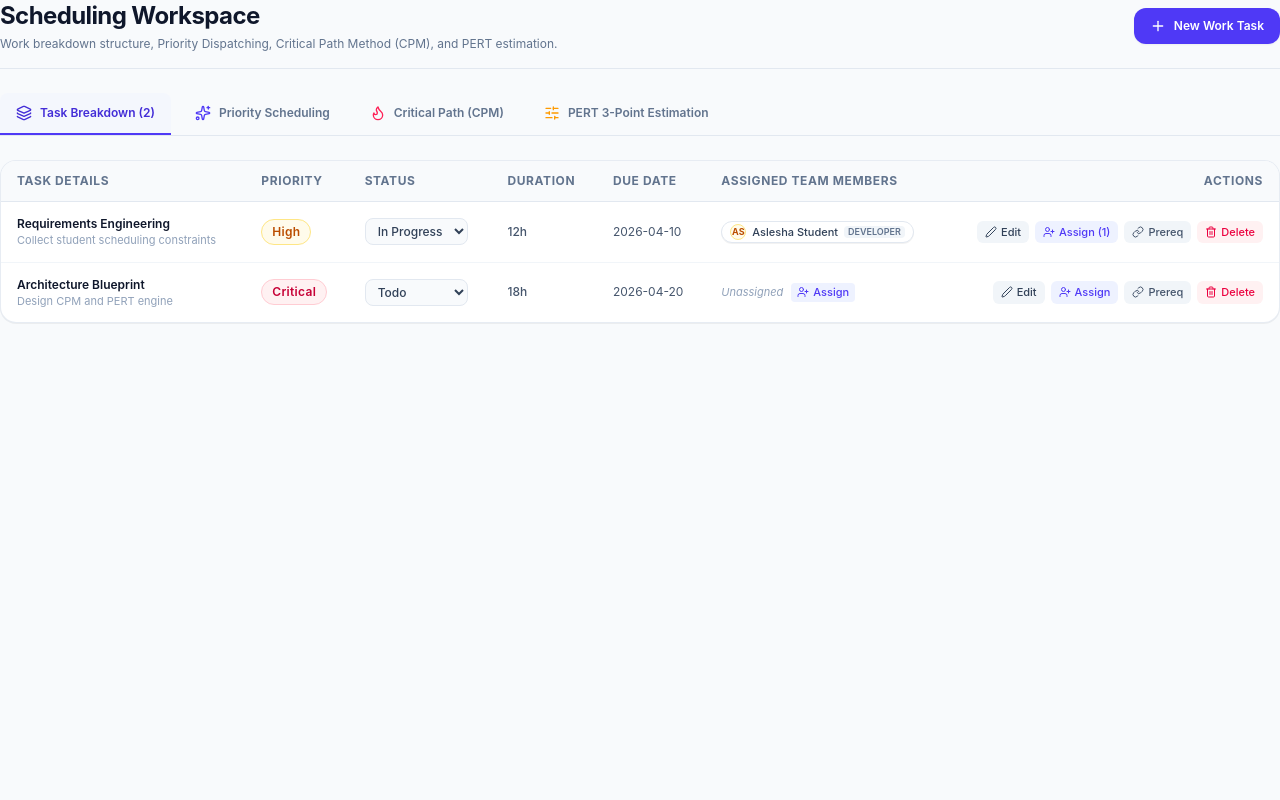
Scheduling Workspace Task Assignment UI › allows unassigning a team member with confirmation prompt and reflects immediately
This screenshot has width=1280, height=800.
Expected: the text "Requirements Engineering" is shown, [17,216,170,231]
// Click assign on task-req-1
Click the button "Assign (1)" at [1077, 232], box [1035,220,1118,243]
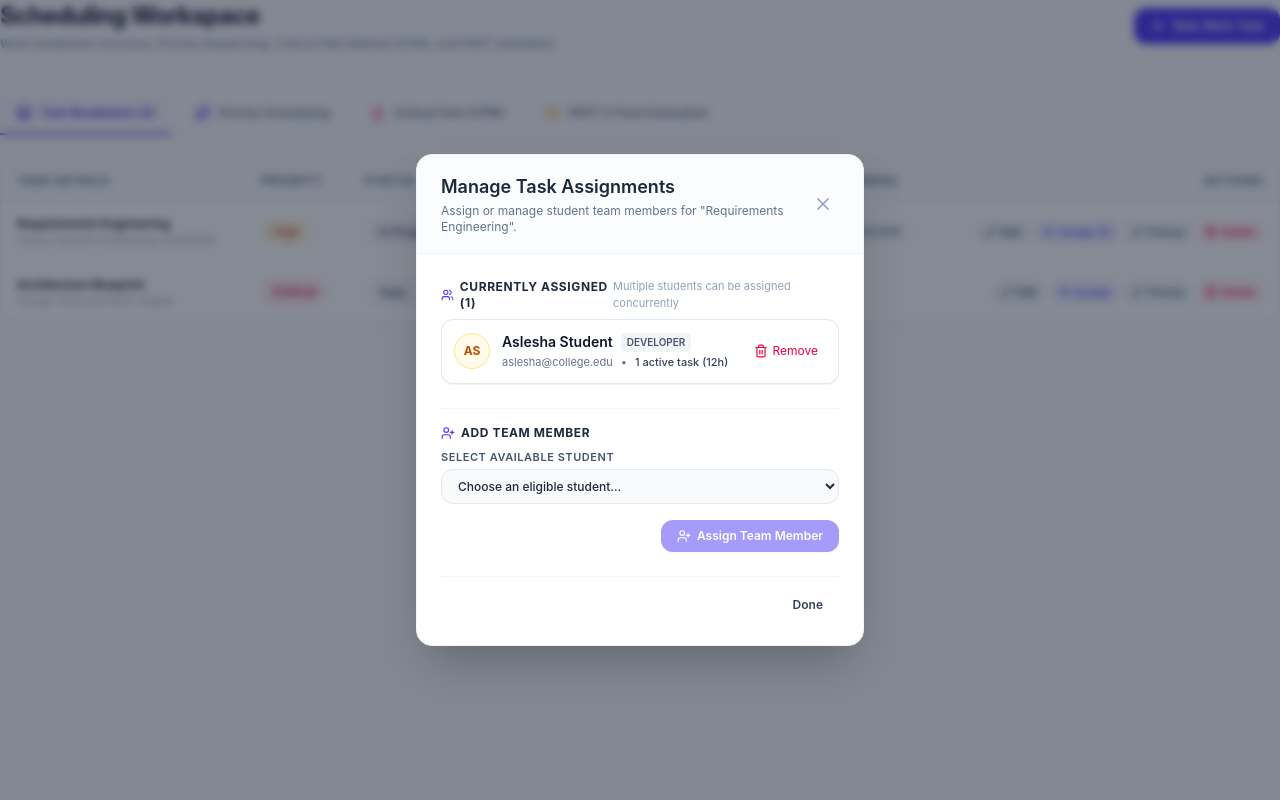
Now the heading "Manage Task Assignments" is shown, box [441,176,675,197]
// Click Remove on Aslesha
Click the button "Remove" at [786, 351], box [746,339,826,363]
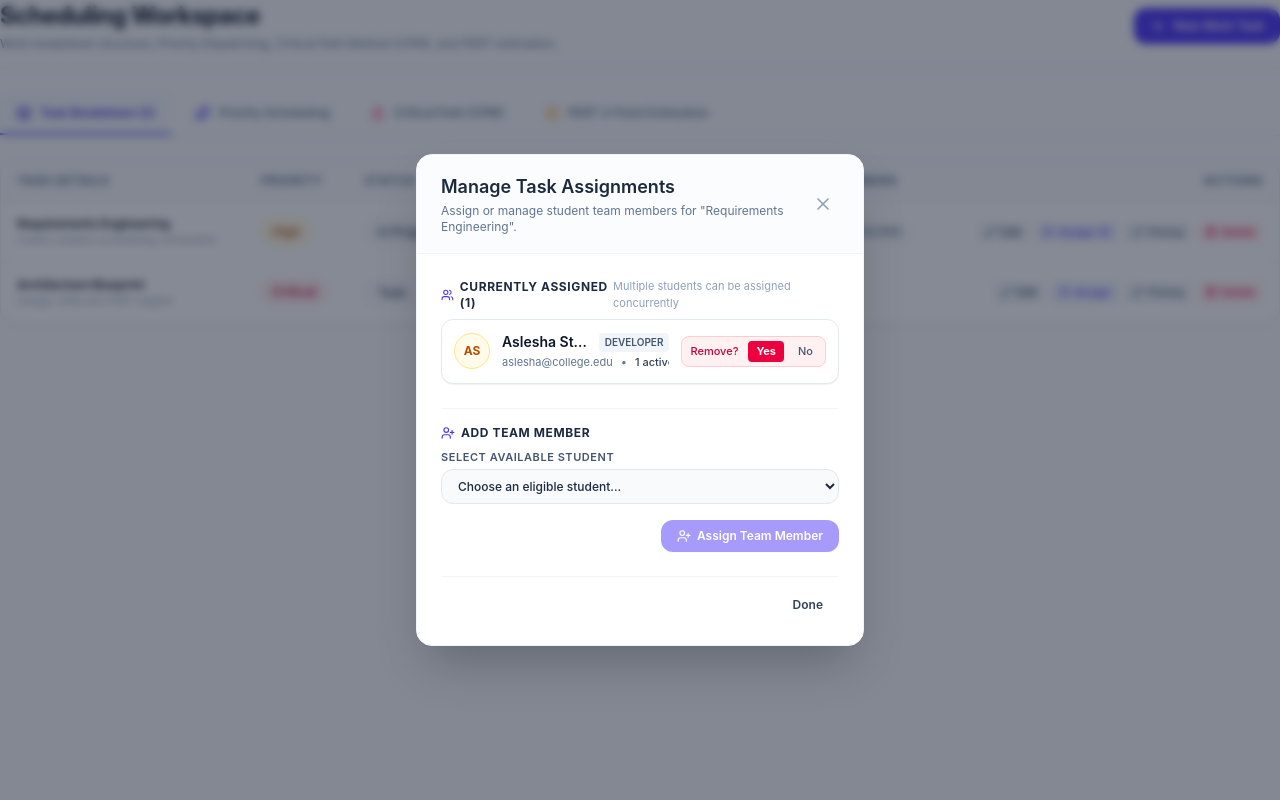
Now the text "Remove?" is shown, box [686,343,742,360]
// Confirm removal
Click the button "Yes" at [766, 351], box [748,341,784,362]
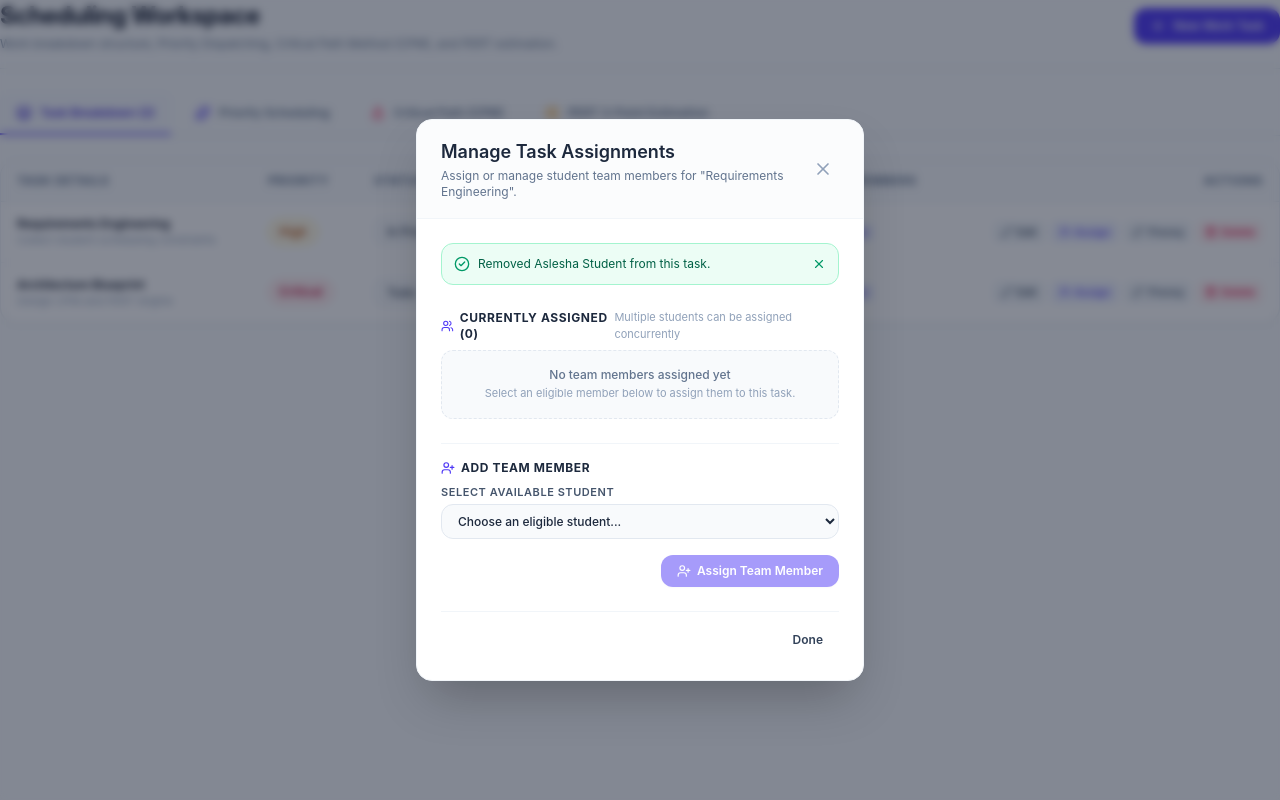
Now the text "Removed Aslesha Student from this task." is shown, box [478,256,710,272]
Now the text "Currently Assigned (0)" is shown, box [460,310,614,342]
Now the text "No team members assigned yet" is shown, box [549,367,731,382]
